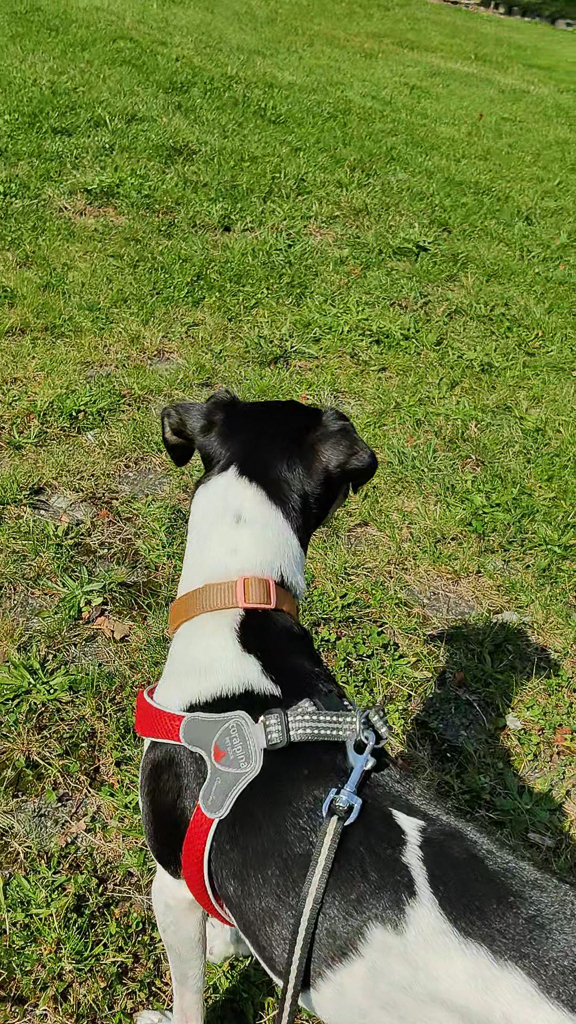Dog: (105, 373, 576, 1024)
